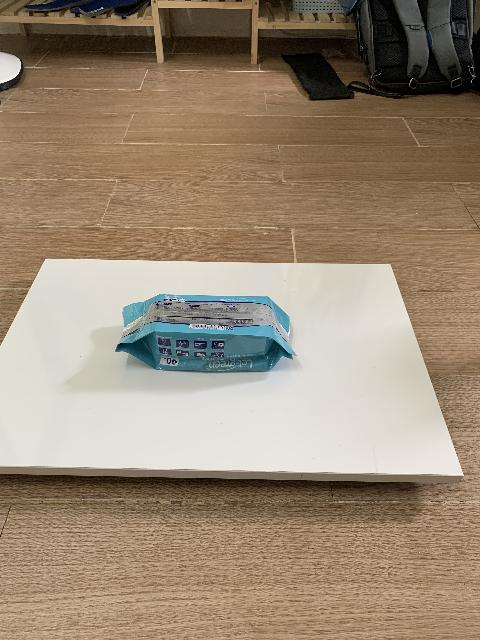Let-green_alcohol_wipes: (115, 294, 297, 372)
